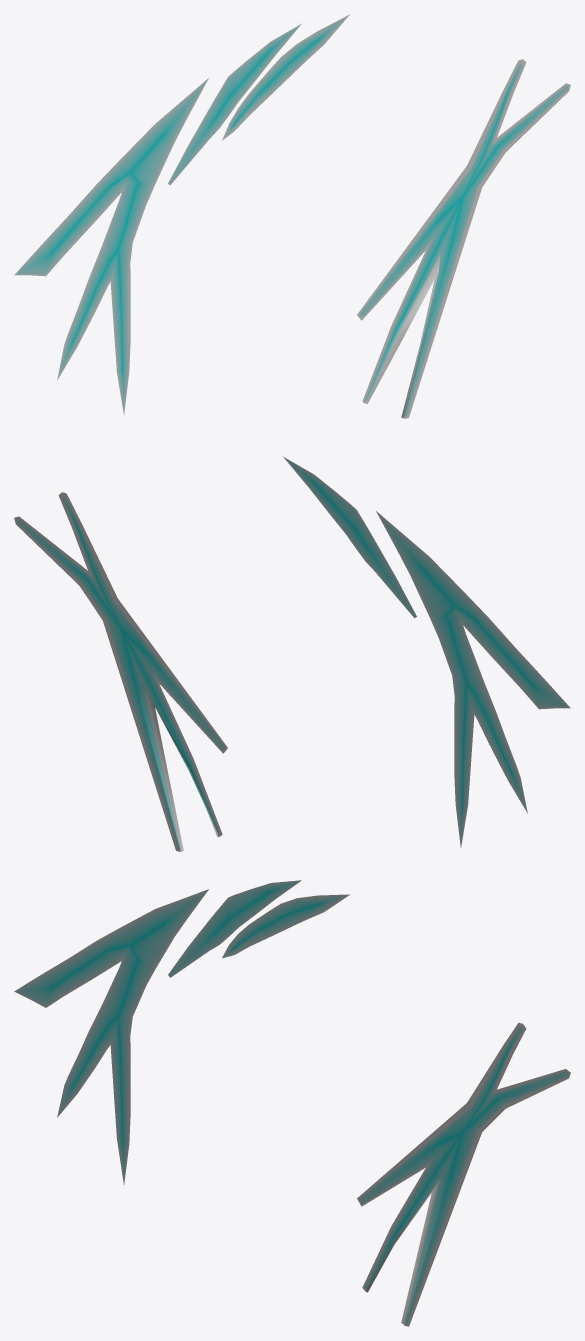
The model's file is SM_EFF_Text_WoodenDragon_01.glb.
3 views of the same model, one above another, from view 1: azimuth 30°, elevation 25°; view 2: azimuth 150°, elevation 25°; view 3: azimuth 330°, elevation 25° (orthographic).
Parts seen in each view (by area): view 1: SM_EFF_Text_WoodenDragon_01; view 2: SM_EFF_Text_WoodenDragon_01; view 3: SM_EFF_Text_WoodenDragon_01.
Part boxes in pixels (x1=…): SM_EFF_Text_WoodenDragon_01: x1=14, y1=14, x2=570, y2=418; SM_EFF_Text_WoodenDragon_01: x1=14, y1=456, x2=570, y2=851; SM_EFF_Text_WoodenDragon_01: x1=14, y1=880, x2=570, y2=1326.
Size of the model in its own units: 1.2 by 0.8654 by 0.0138.
